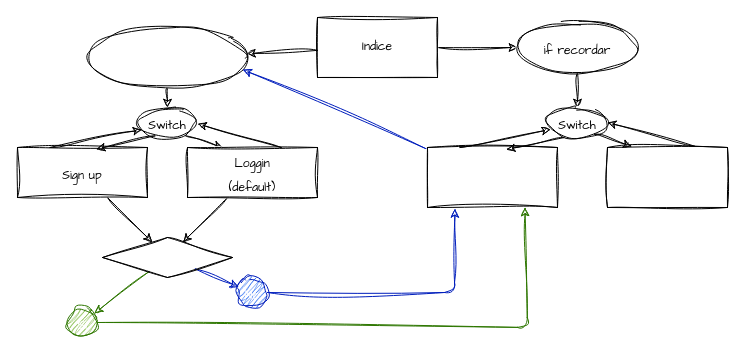
Some shapes in this 745 by 355 pixel diagram are drawn without their labels. Here are the shapes that lost their labels. From the top down, the centre of each, then its label:
At [167,57]: "If !registrado || !recordar".
At [492,177]: "Notas (default)".
At [667,177]: "Horas".
At [167,257]: "Recordar?".
